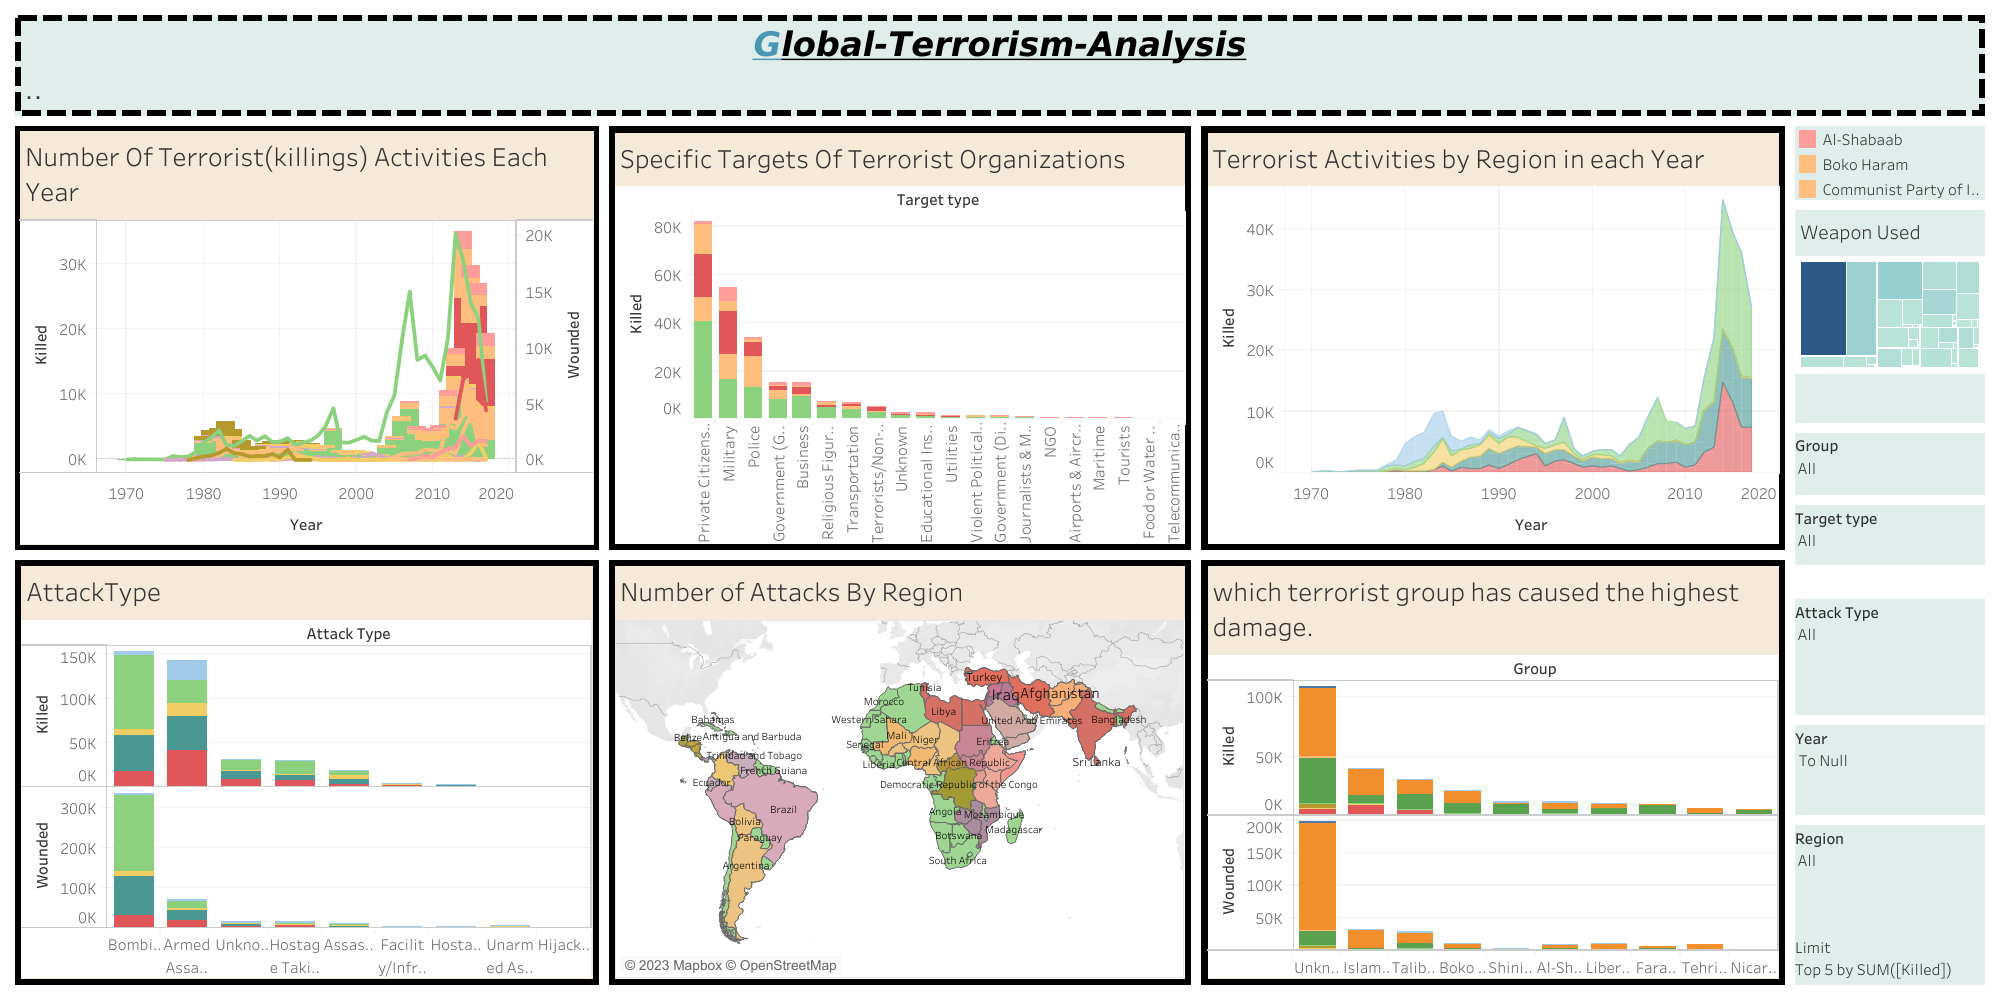

Layout of this report page (visuals, bound fields, positions):
{"tool":"tableau","page":{"name":"Dashboard 1","canvas":[1600,800],"ordinal":0},"visuals":[{"type":"title","box":[8,8,1584,89]},{"type":"worksheet","title":"Number Of Terrorist(killings) Activities Each Year","mark":"Automatic","rows":["Killed","Wounded"],"cols":["Year"],"box":[8,97,474.6,347.5]},{"type":"worksheet","title":"Specific Targets Of Terrorist Organizations","mark":"Automatic","rows":["Killed"],"cols":["Target_type"],"box":[482.6,97,474.7,347.5]},{"type":"worksheet","title":"Terrorist Activities by Region in each Year","mark":"Area","rows":["Killed"],"cols":["Year"],"box":[957.3,97,474.7,347.5]},{"type":"legend","title":"Number Of Terrorist(killings) Activities Each Year","param":"[federated.0te24de1r0b45l1a3jv0h0mlhqfy].[none:Group:nk]","box":[1432,97,160,67]},{"type":"worksheet","title":"Weapon which is used most","mark":"Automatic","box":[1432,164,160,178]},{"type":"filter","title":"Number of Attacks By Region","param":"[federated.0te24de1r0b45l1a3jv0h0mlhqfy].[none:Group:nk]","box":[1432,342,160,58]},{"type":"filter","title":"Specific Targets Of Terrorist Organizations","param":"[federated.0te24de1r0b45l1a3jv0h0mlhqfy].[none:Target_type:nk]","box":[1432,400,160,75]},{"type":"worksheet","title":"AttackType","mark":"Automatic","rows":["Killed","Wounded"],"cols":["AttackType"],"box":[8,444.5,474.6,347.5]},{"type":"worksheet","title":"Number of Attacks By Region","mark":"Multipolygon","box":[482.6,444.5,474.6,347.5]},{"type":"worksheet","title":"which terrorist group has caused the highest damage.","mark":"Automatic","rows":["Killed","Wounded"],"cols":["Group"],"box":[957.3,444.5,474.7,347.5]},{"type":"filter","title":"AttackType","param":"[federated.0te24de1r0b45l1a3jv0h0mlhqfy].[none:AttackType:nk]","box":[1432,475,160,101]},{"type":"filter","title":"Number Of Terrorist(killings) Activities Each Year","param":"[federated.0te24de1r0b45l1a3jv0h0mlhqfy].[none:Year:qk]","box":[1432,576,160,80]},{"type":"filter","title":"AttackType","param":"[federated.0te24de1r0b45l1a3jv0h0mlhqfy].[none:Region:nk]","box":[1432,656,160,136]}]}

Visuals, with their boxes in screenshot pixels (x1, y1, x2, y2), scaled from the page's 1600x800 canvas onto the 1999x999 screenshot:
title: locate(10, 10, 1989, 121)
"Number Of Terrorist(killings) Activities Each Year" worksheet: locate(10, 121, 603, 555)
"Specific Targets Of Terrorist Organizations" worksheet: locate(603, 121, 1196, 555)
"Terrorist Activities by Region in each Year" worksheet (Area marks): locate(1196, 121, 1789, 555)
"Number Of Terrorist(killings) Activities Each Year" legend: locate(1789, 121, 1989, 205)
"Weapon which is used most" worksheet: locate(1789, 205, 1989, 427)
"Number of Attacks By Region" filter: locate(1789, 427, 1989, 500)
"Specific Targets Of Terrorist Organizations" filter: locate(1789, 500, 1989, 593)
"AttackType" worksheet: locate(10, 555, 603, 989)
"Number of Attacks By Region" worksheet (Multipolygon marks): locate(603, 555, 1196, 989)
"which terrorist group has caused the highest damage." worksheet: locate(1196, 555, 1789, 989)
"AttackType" filter: locate(1789, 593, 1989, 719)
"Number Of Terrorist(killings) Activities Each Year" filter: locate(1789, 719, 1989, 819)
"AttackType" filter: locate(1789, 819, 1989, 989)
